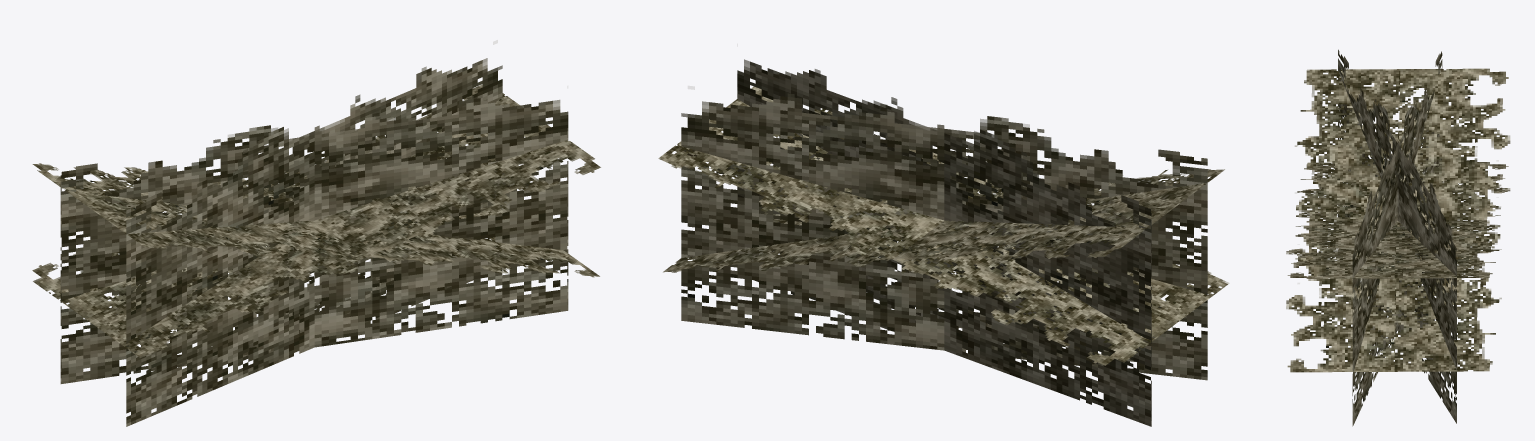
The model's file is bush_long_full_overgrown_dead.glb.
3 views of the same model, side by side, from view 1: azimuth 30°, elevation 25°; view 2: azimuth 150°, elevation 25°; view 3: azimuth 270°, elevation 25° (orthographic). The views are drawn at different scales.
Parts seen in each view (by area): view 1: bush_long_full_overgrown_dead; view 2: bush_long_full_overgrown_dead; view 3: bush_long_full_overgrown_dead.
Part boxes in pixels (box(x1,y1,x2,y2)): bush_long_full_overgrown_dead: box(32, 58, 600, 426); bush_long_full_overgrown_dead: box(658, 59, 1229, 426); bush_long_full_overgrown_dead: box(1286, 49, 1510, 426).
Size of the model in its own units: 2 by 1.06 by 1.08.
Materials: 1 (1 with a texture image).
